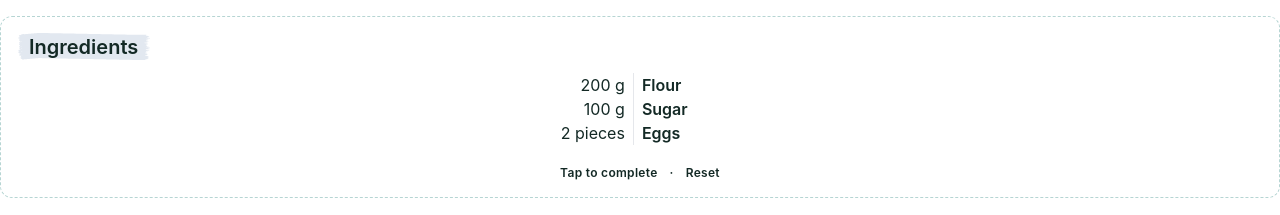
Test case: Ingredients › toggles ingredient as used when clicked
This screenshot has width=1280, height=215.
What coordinates should you click on to do the following:
click the text "Flour"
I would click on:
 (640, 85)
Its box is 17,73 -> 1263,97.
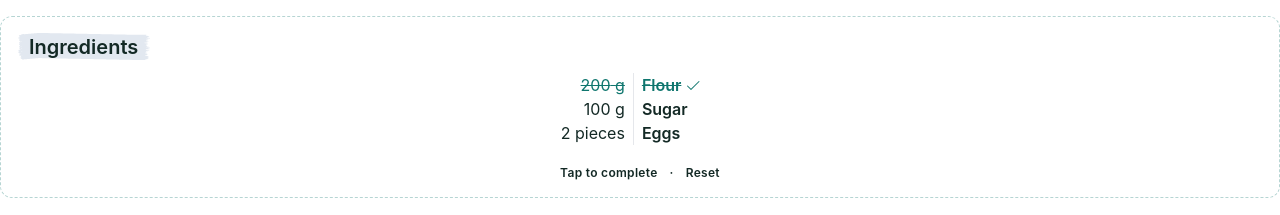
Expected: the number of icons with test id "check-icon" is 1, 685,77 -> 701,93
